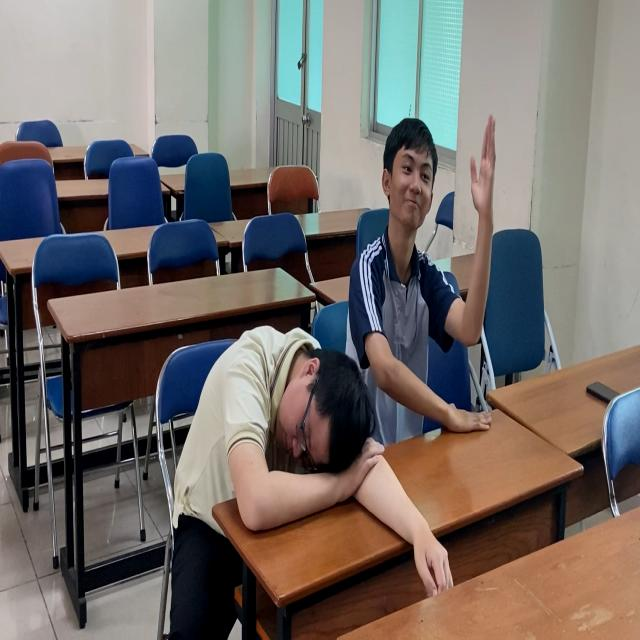raise_hand: (347, 88, 504, 437)
sleep: (167, 312, 384, 543)
